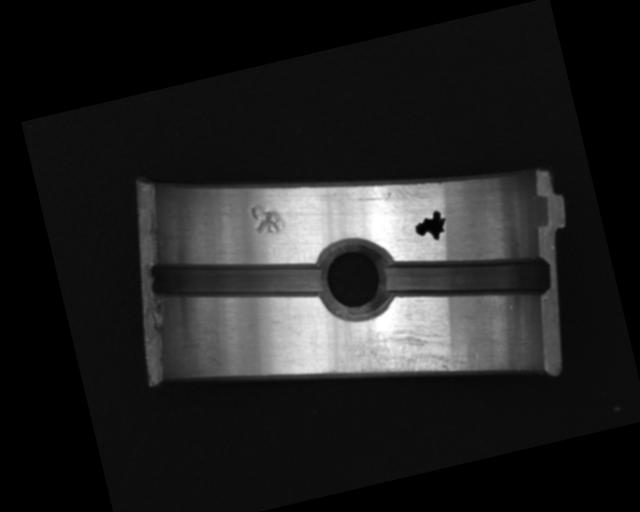blot: (410, 208, 452, 245)
bruise: (248, 198, 288, 238)
gap: (147, 227, 327, 334), (379, 230, 555, 328)
hole: (309, 235, 402, 328)
scratch: (322, 304, 483, 405)
